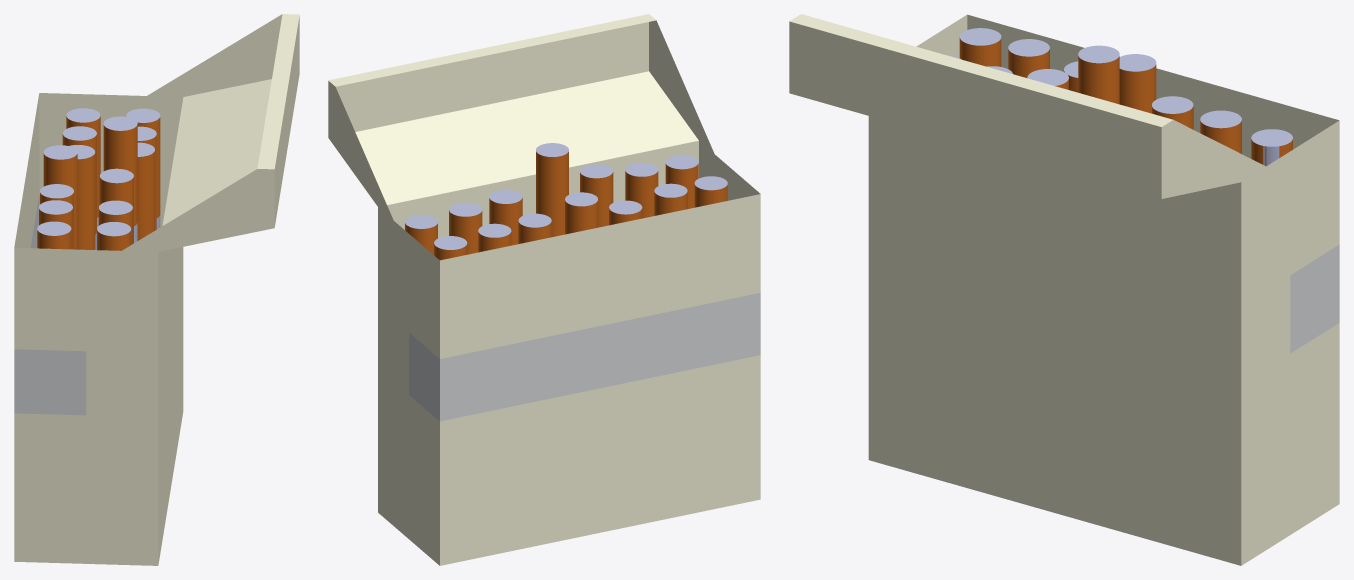
File: ciggsOutside.fbx
3 views of the same model, side by side, from view 1: azimuth 30°, elevation 25°; view 2: azimuth 150°, elevation 25°; view 3: azimuth 270°, elevation 25° (orthographic). The views are drawn at different scales.
Parts seen in each view (by area): view 1: Cylinder.001; view 2: Cylinder.001; view 3: Cylinder.001.
Boxes of the visible parts, x1,y1,x2,y2 form: Cylinder.001: [14, 14, 299, 565]; Cylinder.001: [328, 14, 760, 565]; Cylinder.001: [789, 14, 1339, 565].
Bounding box in the file's own units: 443 × 464 × 474.
